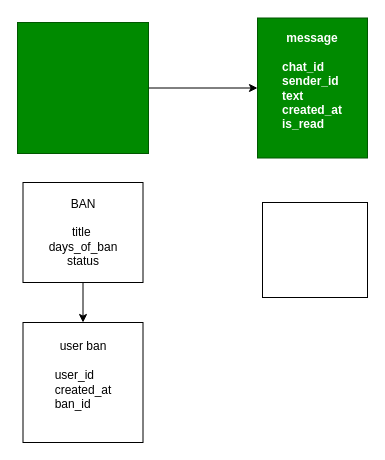
The diagram is 385 pixels wide and 460 high, and some of its shapes have lost their labels. The box of each missing label's shape, as (x1, y1, x2, y2) in pixels:
ai_config ai_id text status created_at updated_at: (262, 202, 368, 298)
CHAT chat_id = uuid users = [user1, user2] created_at updated_at: (16, 22, 148, 154)
